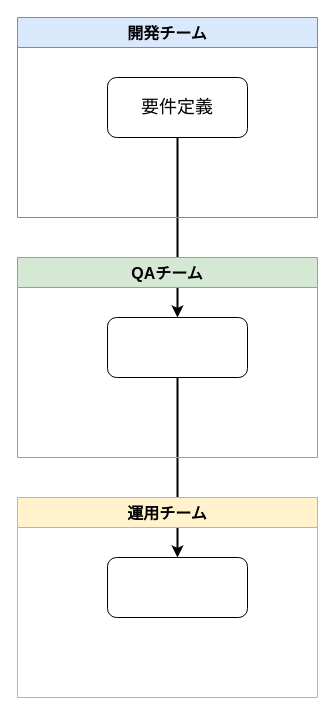
Image size: 335x715. Some labels were removed from this diagram. The centre of each missing label's shape, as x and y in pixels:
デプロイ: [177,587]
レビュー: [177,347]
